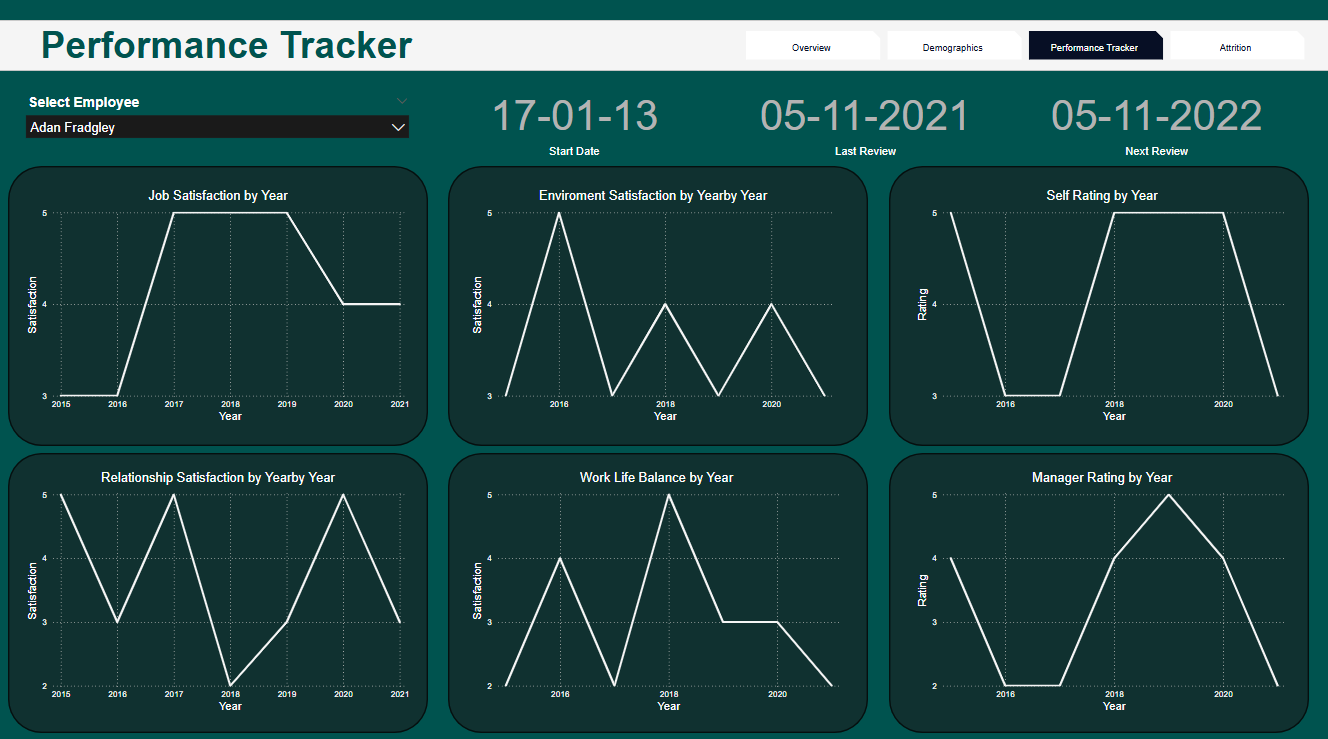

This screenshot's page, from the dashboard's own definition file:
{"tool":"powerbi","page":{"name":"Performance Tracker","canvas":[1920,1080],"ordinal":2},"visuals":[{"type":"shape","box":[24.3,250,600,400],"z":0},{"type":"shape","box":[653.6,250,600,400],"z":1000},{"type":"shape","box":[1282.9,250,600,400],"z":2000},{"type":"shape","box":[1282.9,660,600,400],"z":3000},{"type":"shape","box":[652.9,660,600,400],"z":4000},{"type":"shape","box":[24.3,660,600,400],"z":5000},{"type":"slicer","fields":{"Values":["Dim_Employee.FullName"]},"box":[40,142.9,567.1,107.1],"z":6000},{"type":"cardVisual","fields":{"Data":["Min(Dim_Employee.HireDate)","_Measures._LastReviewDate","_Measures._NextReviewDate"]},"box":[624.3,128.6,1250,121.4],"z":7000},{"type":"lineChart","title":"Job Satisfaction by Year","fields":{"Category":["DimDate.Date.Variation.Date Hierarchy.Year"],"Y":["_Measures._JobSatisfaction"]},"box":[45.7,281.4,557.1,338.6],"z":8000},{"type":"lineChart","title":"Enviroment Satisfaction by Yearby Year","fields":{"Category":["DimDate.Date.Variation.Date Hierarchy.Year"],"Y":["_Measures._EnvironmentSatisfaction"]},"box":[681.4,281.4,528.6,338.6],"z":9000},{"type":"lineChart","title":"Relationship Satisfaction by Yearby Year","fields":{"Category":["DimDate.Date.Variation.Date Hierarchy.Year"],"Y":["DIm_EducationLevel._RelationshipSatisfaction"]},"box":[45.7,684.3,557.1,350],"z":10000},{"type":"lineChart","title":"Work Life Balance by Year","fields":{"Category":["DimDate.Date.Variation.Date Hierarchy.Year"],"Y":["_Measures._WorkLifeBalance"]},"box":[681.4,684.3,538.6,350],"z":11000},{"type":"lineChart","title":"Self Rating by Year","fields":{"Category":["DimDate.Date.Variation.Date Hierarchy.Year"],"Y":["_Measures._SelfRating"]},"box":[1317.1,281.4,540,338.6],"z":12000},{"type":"lineChart","title":"Manager Rating by Year","fields":{"Category":["DimDate.Date.Variation.Date Hierarchy.Year"],"Y":["_Measures._ManagerRating"]},"box":[1317.1,684.3,540,350],"z":13000},{"type":"shape","box":[0,41.7,1920.3,72.7],"z":14000},{"type":"pageNavigator","box":[1078.6,57.1,800,41.4],"z":15000},{"type":"textbox","box":[65.7,41.4,567.1,92.9],"z":16000}]}

Visuals, with their boxes in screenshot pixels (x1, y1, x2, y2), scaled from the page's 1920x1080 canvas onto the 1328x739 screenshot:
shape: 17:171:432:445
shape: 452:171:867:445
shape: 887:171:1302:445
shape: 887:452:1302:725
shape: 452:452:867:725
shape: 17:452:432:725
slicer - Dim_Employee.FullName: 28:98:420:171
cardVisual - Min(Dim_Employee.HireDate) x _Measures._LastReviewDate: 432:88:1296:171
"Job Satisfaction by Year" lineChart: 32:193:417:424
"Enviroment Satisfaction by Yearby Year" lineChart: 471:193:837:424
"Relationship Satisfaction by Yearby Year" lineChart: 32:468:417:708
"Work Life Balance by Year" lineChart: 471:468:844:708
"Self Rating by Year" lineChart: 911:193:1284:424
"Manager Rating by Year" lineChart: 911:468:1284:708
shape: 0:29:1327:78
pageNavigator: 746:39:1299:67
textbox: 45:28:438:92
